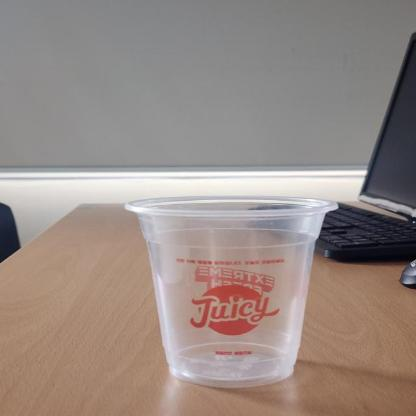Plastic Cup: (122, 195, 342, 387)
